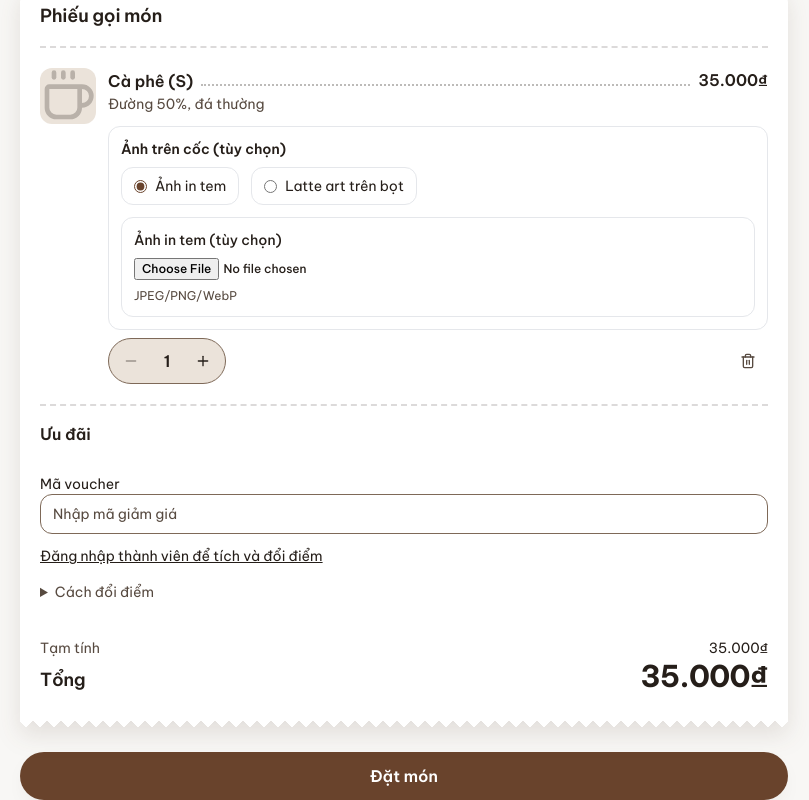
checkout interfaces › checks and sends with one click, locking the cart throughout the quote request
Later steps or results of the test are not shown.
(page scrolled)
Click the button "Đặt món" at (404, 776), box [20,752,788,799]
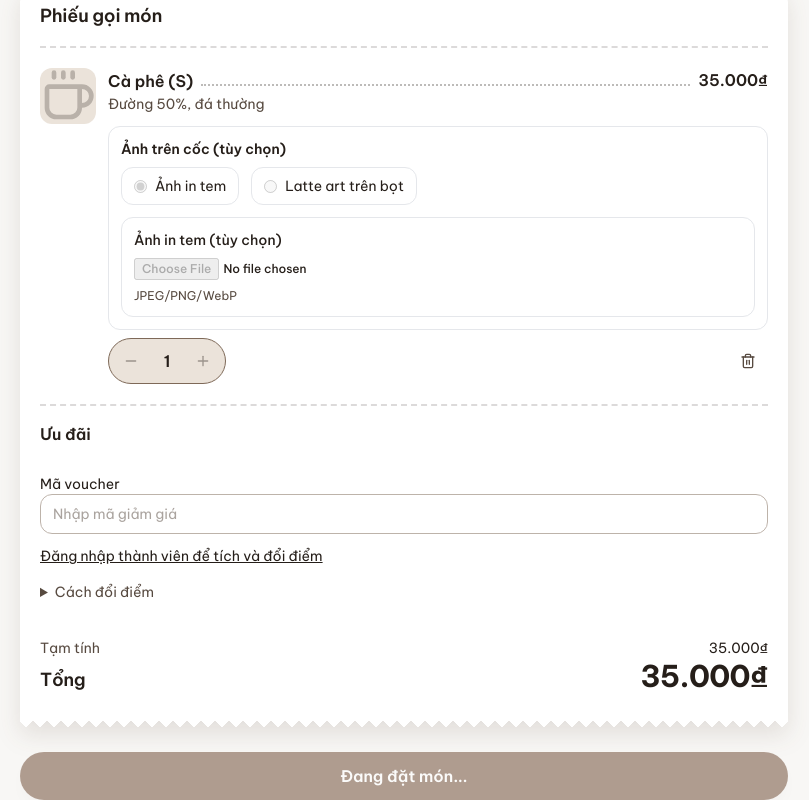
Expected: the button "Đang đặt món..." is disabled, [20,752,788,799]
Expected: the element named "Xoá món" is disabled, [40,48,768,404]
